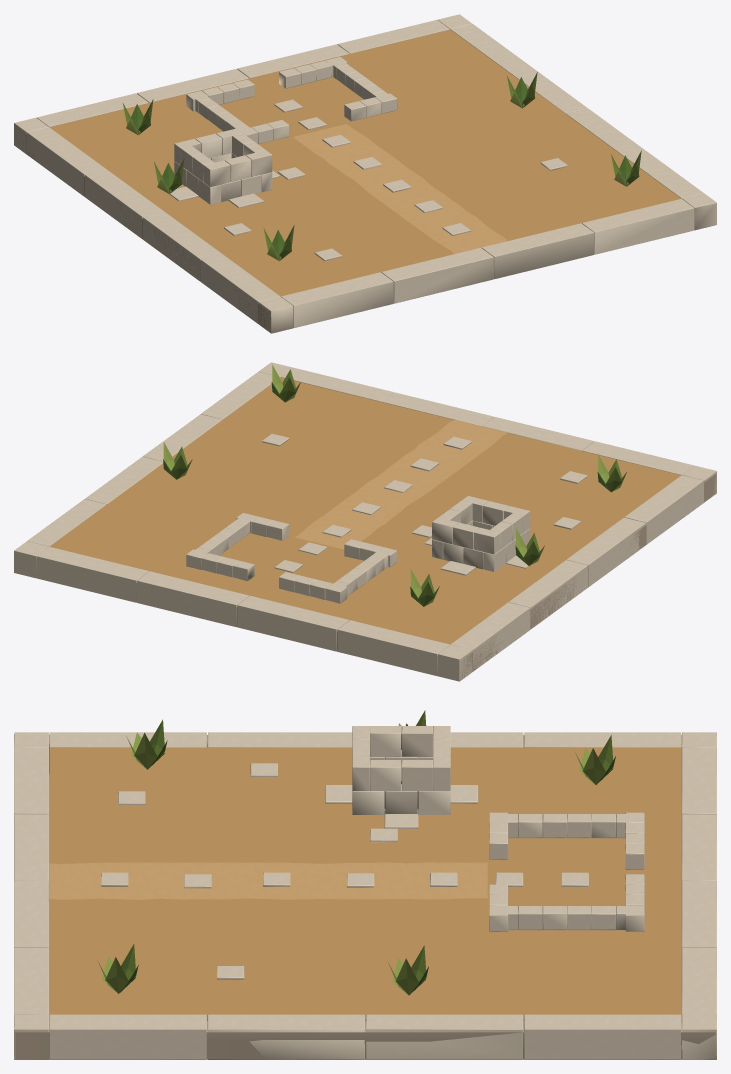
The model's file is city-1-lod0-cae94c6fa5f8.glb.
The picture shows the model from 3 angles, top to bottom: view 1: azimuth 30°, elevation 25°; view 2: azimuth 150°, elevation 25°; view 3: azimuth 270°, elevation 25°; orthographic projection. The views are drawn at different scales.
Visible parts, largest first — view 1: SM_CT1_V4_Batch_1.002, SM_CT1_V4_Batch_6.002, SM_CT1_V4_Batch_2.002, SM_CT1_V4_Batch_8.002, SM_CT1_V4_Batch_7.002, SM_CT1_V4_Batch_9.002, SM_CT1_V4_Batch_0.002; view 2: SM_CT1_V4_Batch_1.002, SM_CT1_V4_Batch_6.002, SM_CT1_V4_Batch_2.002, SM_CT1_V4_Batch_0.002, SM_CT1_V4_Batch_7.002, SM_CT1_V4_Batch_8.002; view 3: SM_CT1_V4_Batch_1.002, SM_CT1_V4_Batch_6.002, SM_CT1_V4_Batch_2.002, SM_CT1_V4_Batch_0.002, SM_CT1_V4_Batch_8.002, SM_CT1_V4_Batch_7.002.
Boxes of the visible parts, x1=… form: SM_CT1_V4_Batch_1.002: x1=50, y1=29, x2=681, y2=296; SM_CT1_V4_Batch_6.002: x1=14, y1=14, x2=716, y2=333; SM_CT1_V4_Batch_2.002: x1=293, y1=124, x2=506, y2=253; SM_CT1_V4_Batch_8.002: x1=126, y1=72, x2=641, y2=261; SM_CT1_V4_Batch_7.002: x1=122, y1=75, x2=639, y2=260; SM_CT1_V4_Batch_9.002: x1=131, y1=77, x2=631, y2=254; SM_CT1_V4_Batch_0.002: x1=15, y1=130, x2=696, y2=332; SM_CT1_V4_Batch_1.002: x1=49, y1=377, x2=680, y2=644; SM_CT1_V4_Batch_6.002: x1=14, y1=362, x2=716, y2=681; SM_CT1_V4_Batch_2.002: x1=295, y1=420, x2=507, y2=549; SM_CT1_V4_Batch_0.002: x1=36, y1=474, x2=716, y2=679; SM_CT1_V4_Batch_7.002: x1=171, y1=369, x2=621, y2=606; SM_CT1_V4_Batch_8.002: x1=163, y1=364, x2=626, y2=606; SM_CT1_V4_Batch_1.002: x1=49, y1=743, x2=681, y2=1020; SM_CT1_V4_Batch_6.002: x1=14, y1=726, x2=716, y2=1059; SM_CT1_V4_Batch_2.002: x1=49, y1=862, x2=487, y2=899; SM_CT1_V4_Batch_0.002: x1=15, y1=734, x2=715, y2=1059; SM_CT1_V4_Batch_8.002: x1=102, y1=723, x2=605, y2=995; SM_CT1_V4_Batch_7.002: x1=97, y1=710, x2=613, y2=994.
Size of the model in its own units: 10 by 1.24 by 10.
8 materials, 3 textured.
